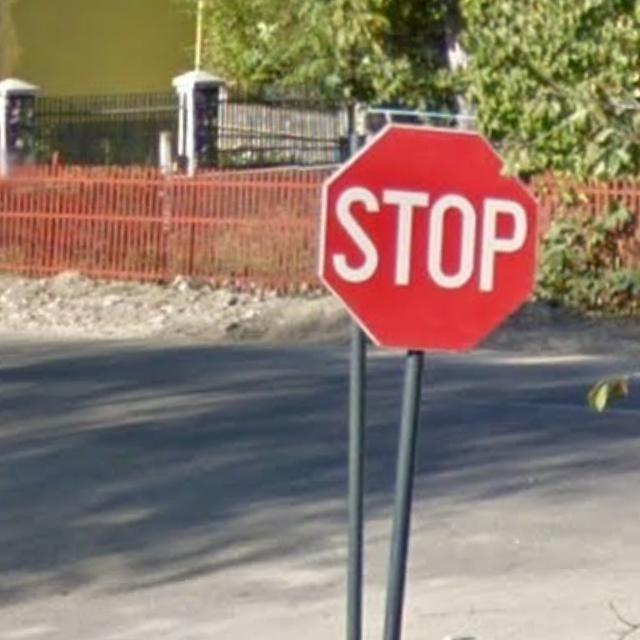prio_stop: (318, 124, 537, 351)
